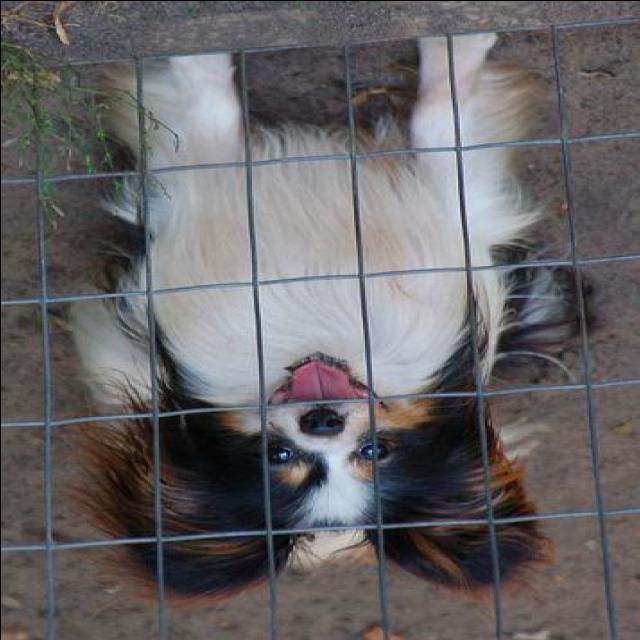papillon: (68, 29, 606, 602)
